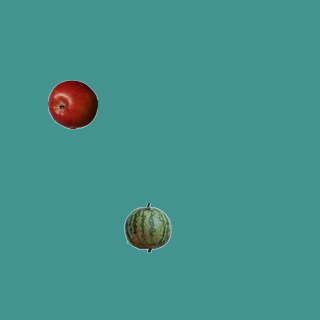Apple Braeburn: (47, 79, 97, 129)
Watermelon: (122, 202, 172, 252)
